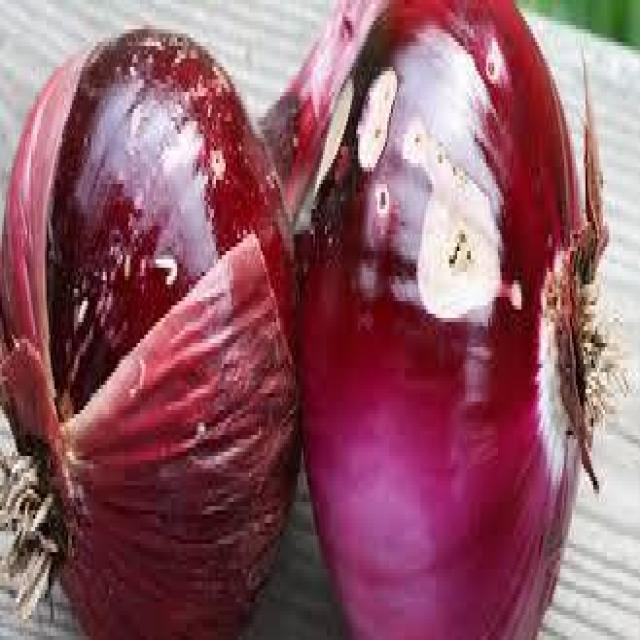Onion: (255, 8, 630, 640), (0, 25, 303, 640)
